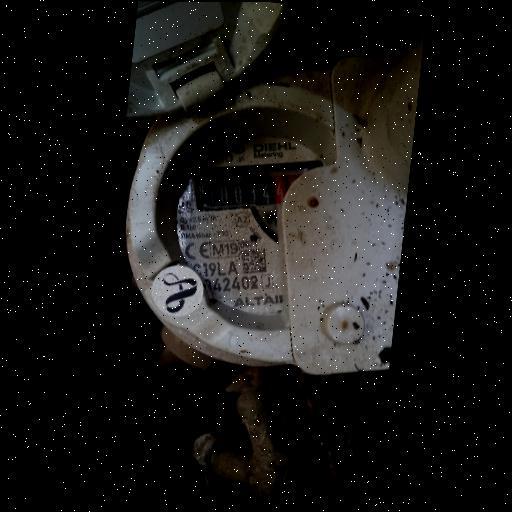0: (197, 178, 221, 213), (227, 177, 250, 210), (214, 179, 236, 212)
3: (241, 177, 263, 209)
4: (256, 175, 279, 209), (271, 175, 292, 207)
border_water_meter_number: (189, 145, 330, 226)
